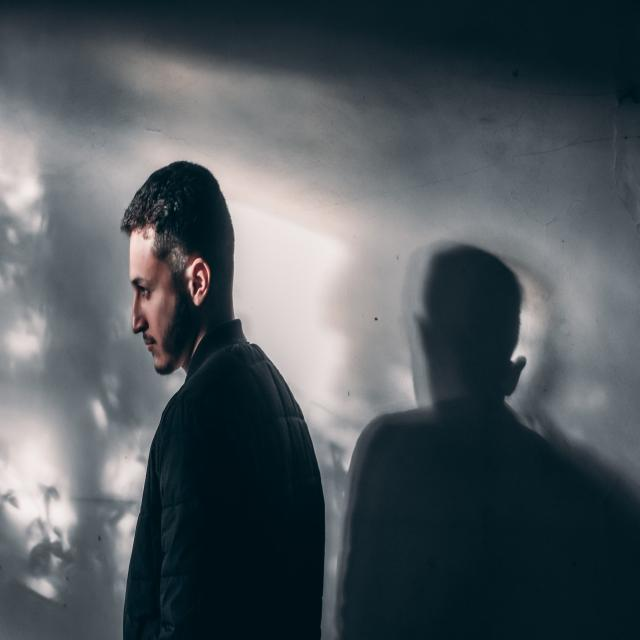adult: (98, 159, 294, 640)
